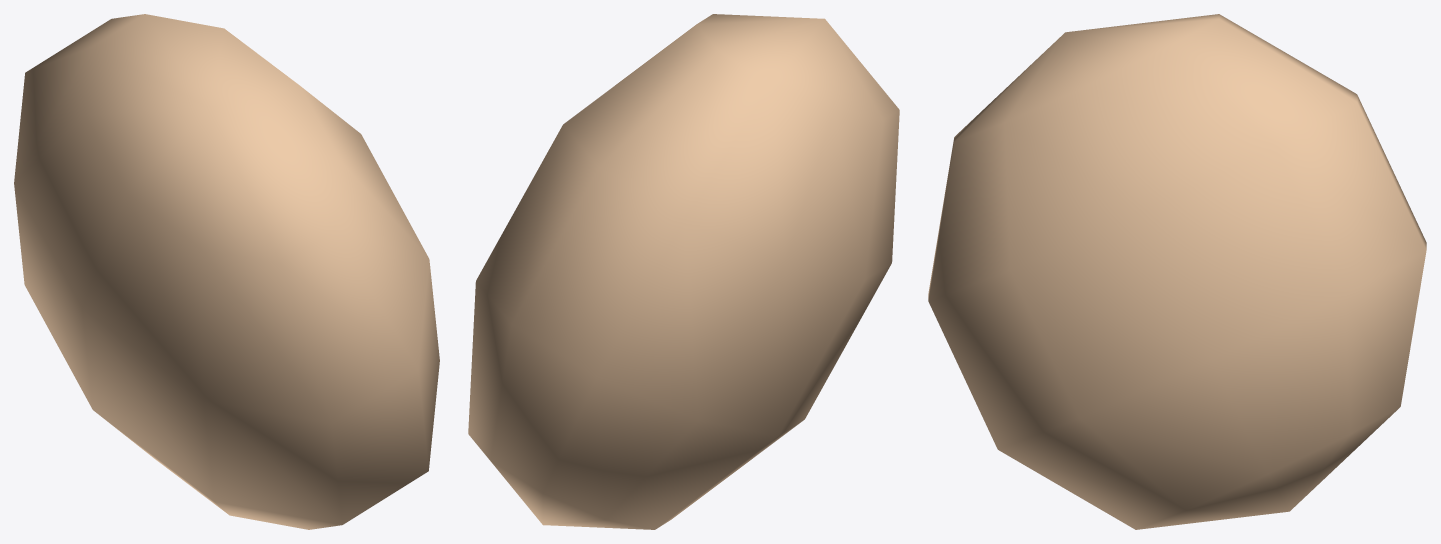
File: hand.FBX
3 renders of one model, left to right at view 1: azimuth 30°, elevation 25°; view 2: azimuth 150°, elevation 25°; view 3: azimuth 270°, elevation 25°, orthographic. The views are drawn at different scales.
Visible parts, largest first — view 1: hand; view 2: hand; view 3: hand.
Boxes of the visible parts, x1=… form: hand: x1=14, y1=14, x2=439, y2=529; hand: x1=468, y1=14, x2=899, y2=529; hand: x1=928, y1=14, x2=1426, y2=529.
Size of the model in its own units: 1.38 by 2.05 by 2.04.
Materials: 1 (1 with a texture image).
